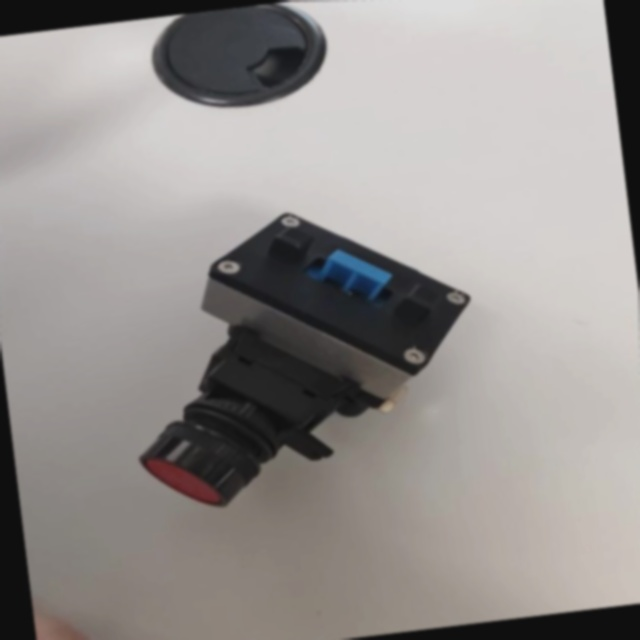push button: (104, 173, 505, 543)
